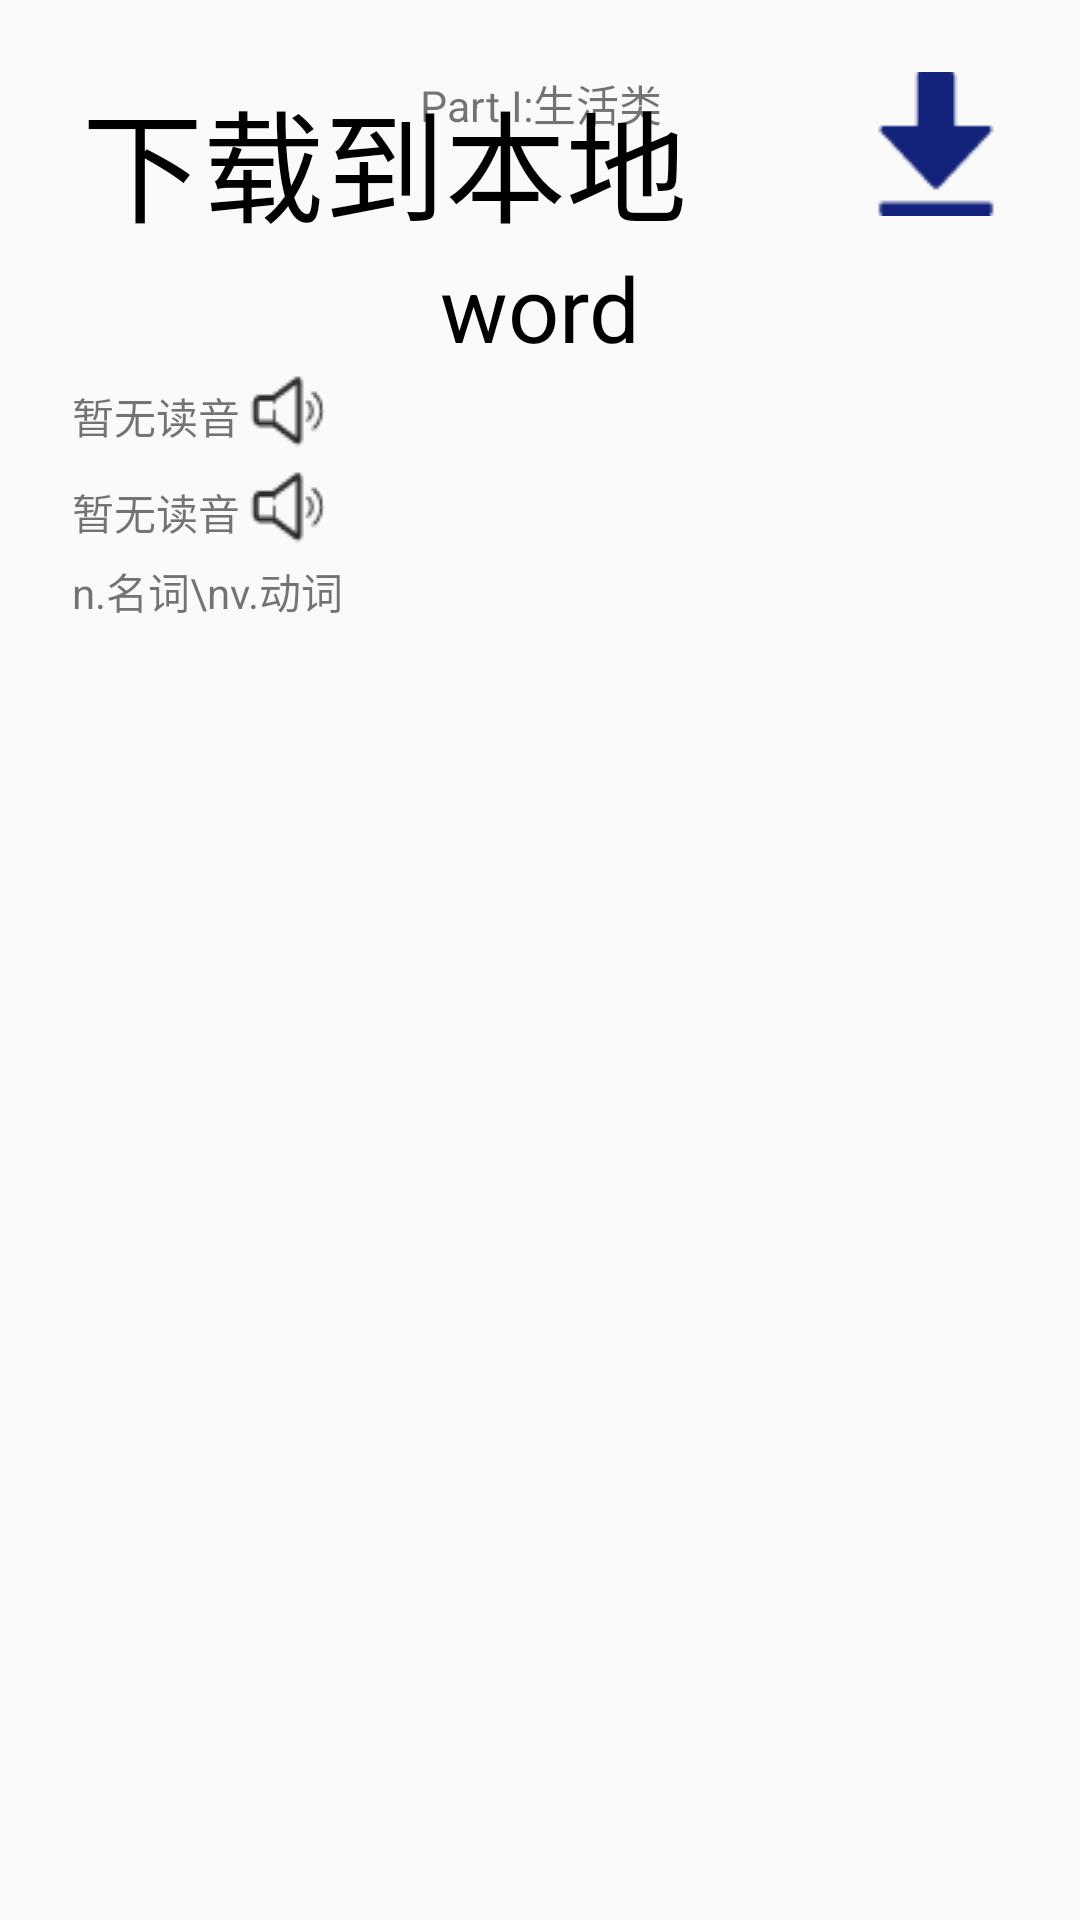

Point at icon controls on the screen. Image size 1080 x 1920, points as (x=x, y=y).
download: (x=936, y=144)
